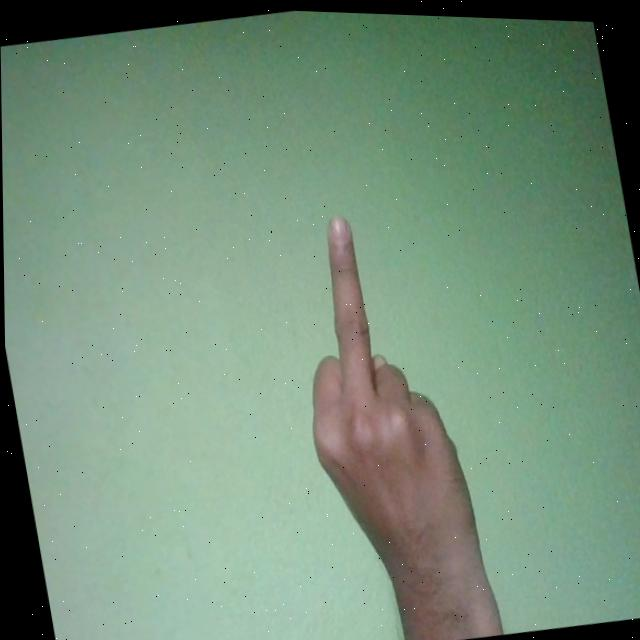Middle Finger: (274, 194, 491, 638)
